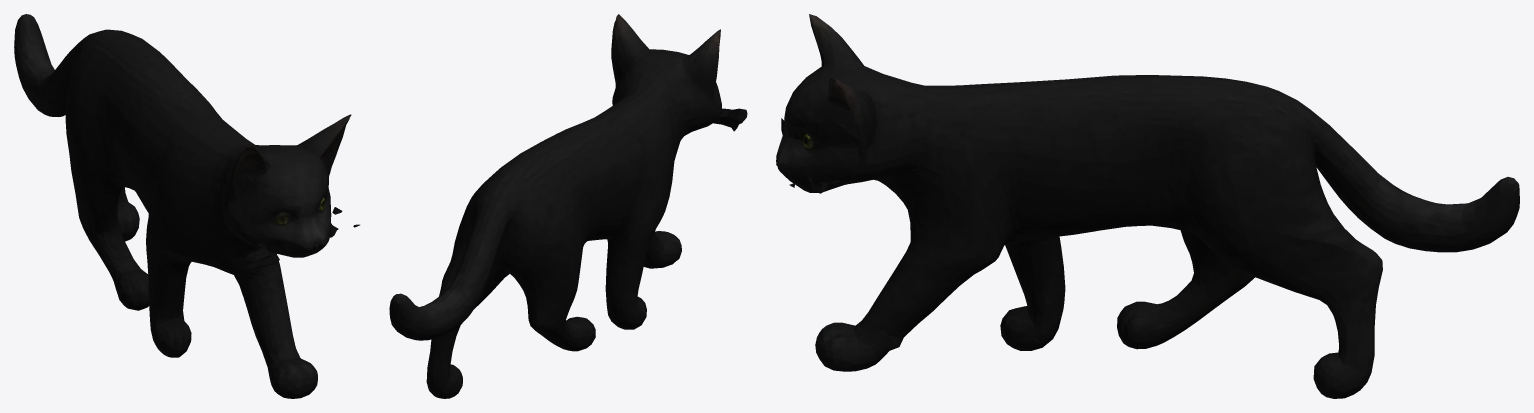
File: actor_cat_black.glb
3 renders of one model, left to right at view 1: azimuth 30°, elevation 25°; view 2: azimuth 150°, elevation 25°; view 3: azimuth 270°, elevation 25°, orthographic. The views are drawn at different scales.
Visible parts, largest first — view 1: geometry_0; view 2: geometry_0; view 3: geometry_0.
Boxes of the visible parts, x1=… form: geometry_0: x1=14, y1=14, x2=359, y2=398; geometry_0: x1=389, y1=14, x2=747, y2=398; geometry_0: x1=776, y1=14, x2=1519, y2=398.
Size of the model in its own units: 0.2359 by 0.4894 by 0.9989.
1 material, 1 textured.
